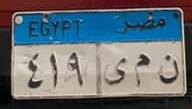1: (47, 52, 62, 88)
4: (24, 49, 44, 90)
9: (66, 51, 85, 89)
meem: (132, 53, 151, 88)
noon: (157, 54, 179, 86)
yaa: (102, 54, 128, 88)
